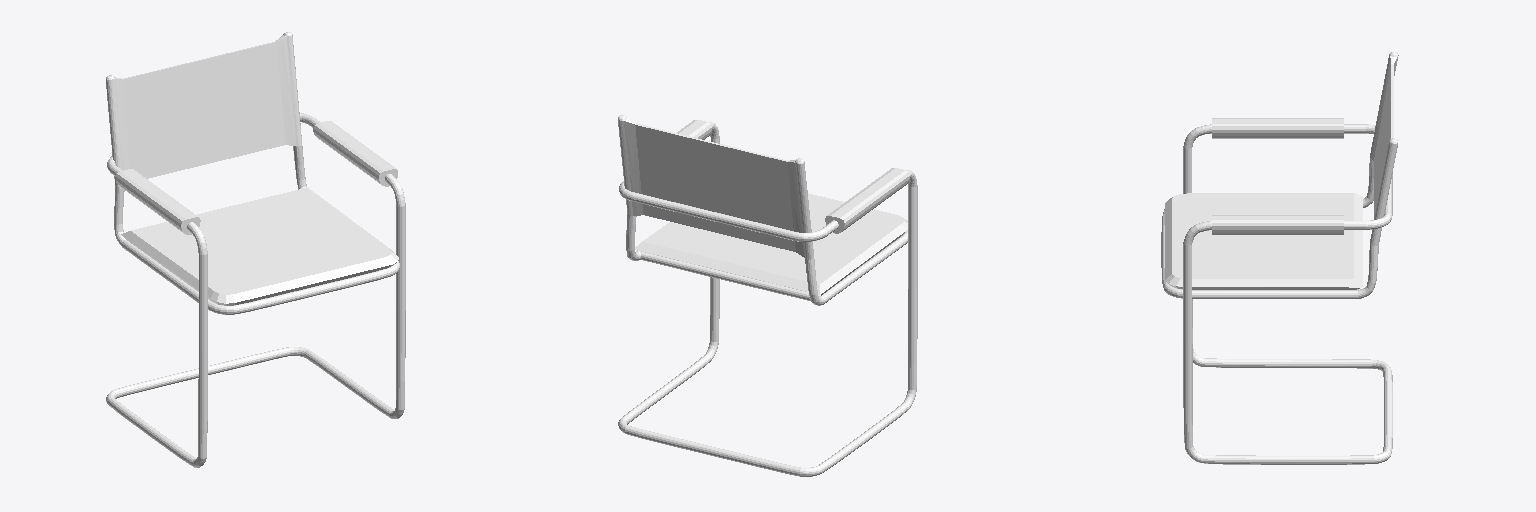
File: chair3.obj
3 views of the same model, side by side, from view 1: azimuth 30°, elevation 25°; view 2: azimuth 150°, elevation 25°; view 3: azimuth 270°, elevation 25° (orthographic).
Parts seen in each view (by area): view 1: Object.1; view 2: Object.1; view 3: Object.1.
Part boxes in pixels (left/top/right/bottom): Object.1: left=106, top=32, right=405, bottom=467; Object.1: left=618, top=115, right=917, bottom=476; Object.1: left=1161, top=52, right=1398, bottom=464.
Size of the model in its own units: 7 by 9.86 by 6.61.